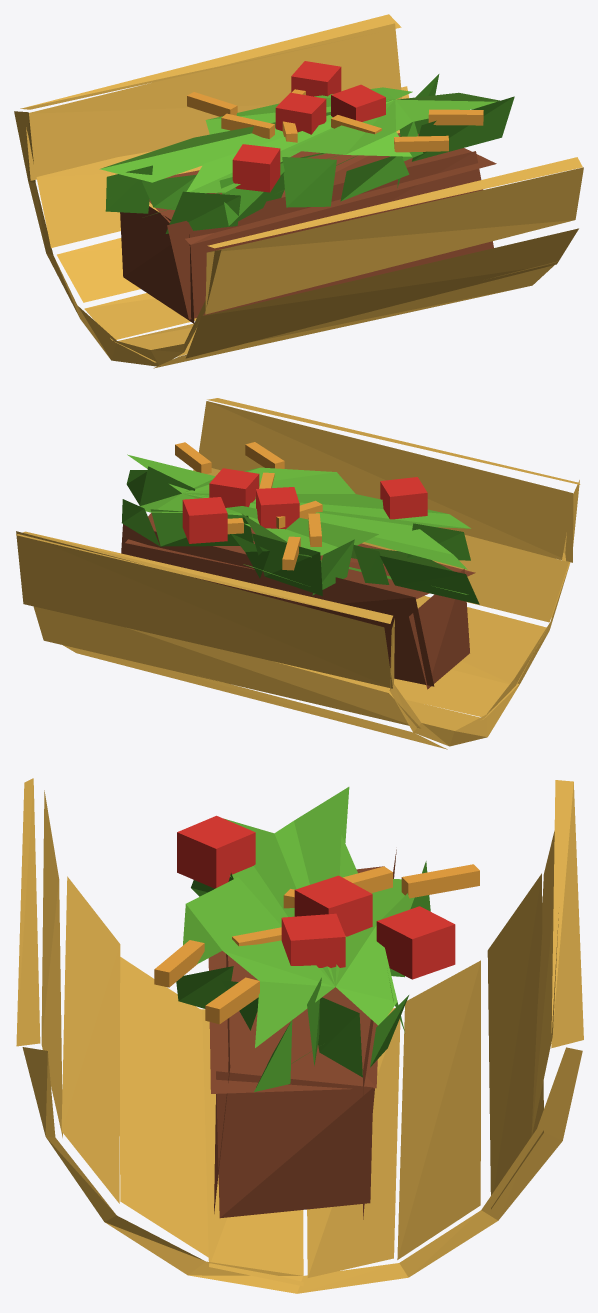
The model's file is food_taco.glb.
3 renders of one model, top to bottom at view 1: azimuth 30°, elevation 25°; view 2: azimuth 150°, elevation 25°; view 3: azimuth 270°, elevation 25°, orthographic. The views are drawn at different scales.
Parts seen in each view (by area): view 1: food_taco; view 2: food_taco; view 3: food_taco.
Part boxes in pixels (box(x1,y1,x2,y2)): food_taco: box(14, 14, 583, 368); food_taco: box(16, 398, 580, 749); food_taco: box(16, 778, 583, 1293).
Size of the model in its own units: 0.1137 by 0.0574 by 0.1023.
